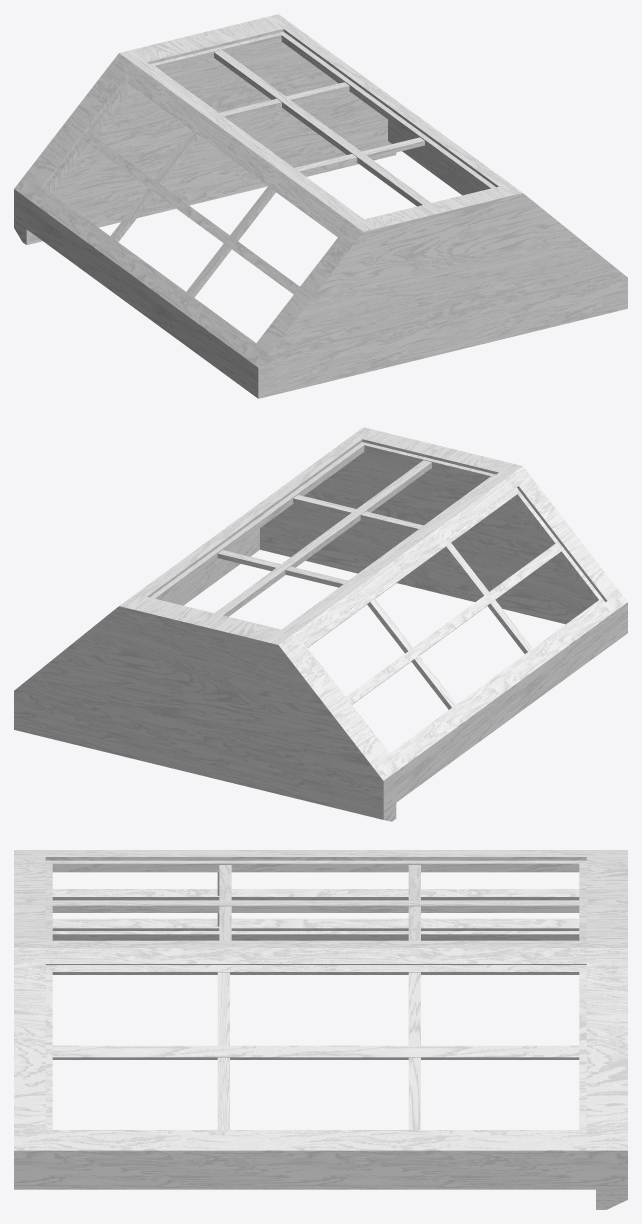
Rendered from MeshWindowBay_3_0_GeomSubset_0.obj.
3 views of the same model, one above another, from view 1: azimuth 30°, elevation 25°; view 2: azimuth 150°, elevation 25°; view 3: azimuth 270°, elevation 25° (orthographic). The views are drawn at different scales.
Parts seen in each view (by area): view 1: MeshWindowBay_3_0_GeomSubset_0; view 2: MeshWindowBay_3_0_GeomSubset_0; view 3: MeshWindowBay_3_0_GeomSubset_0.
Boxes of the visible parts, x1,y1,x2,y2 form: MeshWindowBay_3_0_GeomSubset_0: (14, 14, 627, 398); MeshWindowBay_3_0_GeomSubset_0: (14, 427, 627, 821); MeshWindowBay_3_0_GeomSubset_0: (14, 850, 627, 1209).
Size of the model in its own units: 1.41 by 0.5735 by 1.62.
